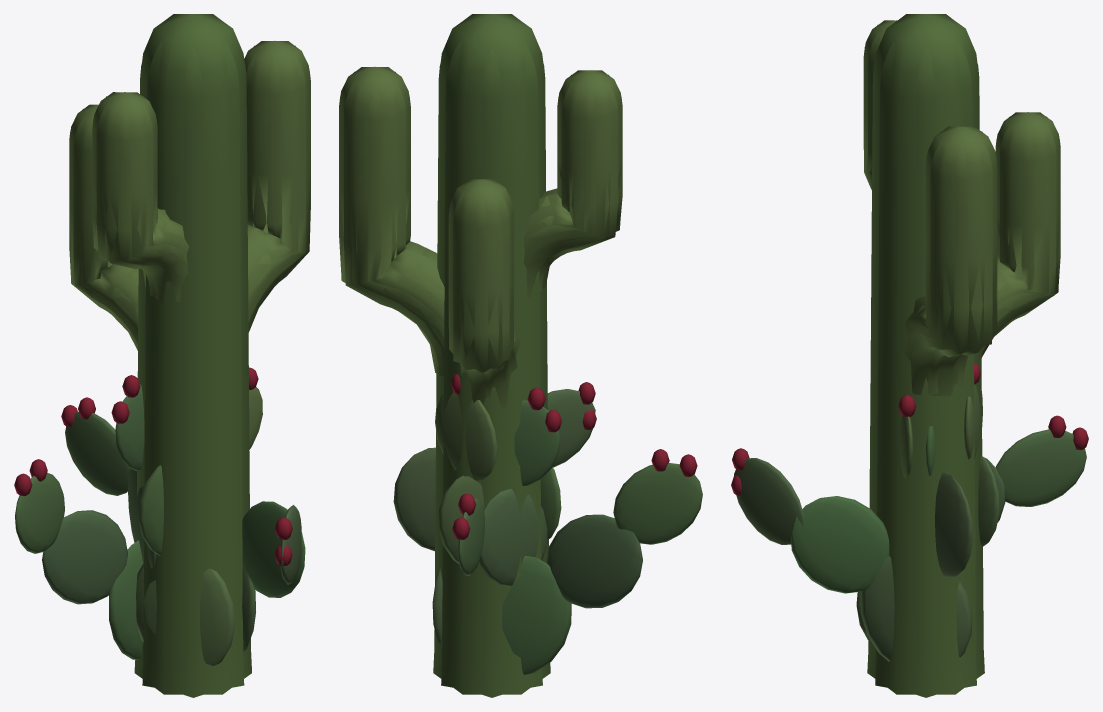
The model's file is frontier-cacti.glb.
3 renders of one model, left to right at view 1: azimuth 30°, elevation 25°; view 2: azimuth 150°, elevation 25°; view 3: azimuth 270°, elevation 25°, orthographic.
Parts seen in each view (by area): view 1: prefab.saguaro_far_two_arm, prefab.saguaro_two_arm, prefab.prickly_pear, prefab.saguaro_far_one_arm, prefab.saguaro_one_arm; view 2: prefab.saguaro_far_two_arm, prefab.prickly_pear, prefab.saguaro_two_arm, prefab.saguaro_far_one_arm, prefab.saguaro_one_arm; view 3: prefab.saguaro_far_two_arm, prefab.saguaro_two_arm, prefab.prickly_pear, prefab.saguaro_far_one_arm, prefab.saguaro_one_arm.
Part boxes in pixels (x1=…): prefab.saguaro_far_two_arm: x1=92, y1=14, x2=310, y2=694; prefab.saguaro_two_arm: x1=92, y1=41, x2=310, y2=697; prefab.prickly_pear: x1=14, y1=367, x2=305, y2=665; prefab.saguaro_far_one_arm: x1=69, y1=104, x2=138, y2=350; prefab.saguaro_one_arm: x1=69, y1=108, x2=138, y2=343; prefab.saguaro_far_two_arm: x1=339, y1=14, x2=622, y2=694; prefab.prickly_pear: x1=393, y1=374, x2=702, y2=675; prefab.saguaro_two_arm: x1=339, y1=41, x2=622, y2=697; prefab.saguaro_far_one_arm: x1=448, y1=179, x2=519, y2=408; prefab.saguaro_one_arm: x1=448, y1=179, x2=519, y2=398; prefab.saguaro_far_two_arm: x1=864, y1=14, x2=997, y2=694; prefab.saguaro_two_arm: x1=863, y1=20, x2=997, y2=697; prefab.prickly_pear: x1=731, y1=364, x2=1088, y2=661; prefab.saguaro_far_one_arm: x1=981, y1=112, x2=1060, y2=356; prefab.saguaro_one_arm: x1=978, y1=112, x2=1060, y2=360.
Size of the model in its own units: 1.15 by 2.23 by 1.1.
